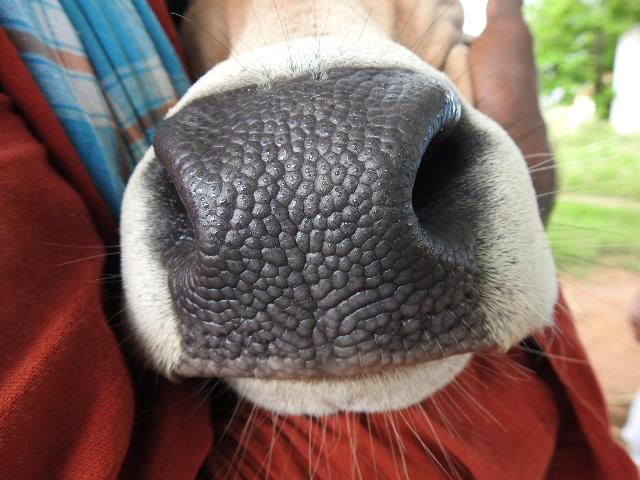Muzzle: (152, 110, 472, 354)
